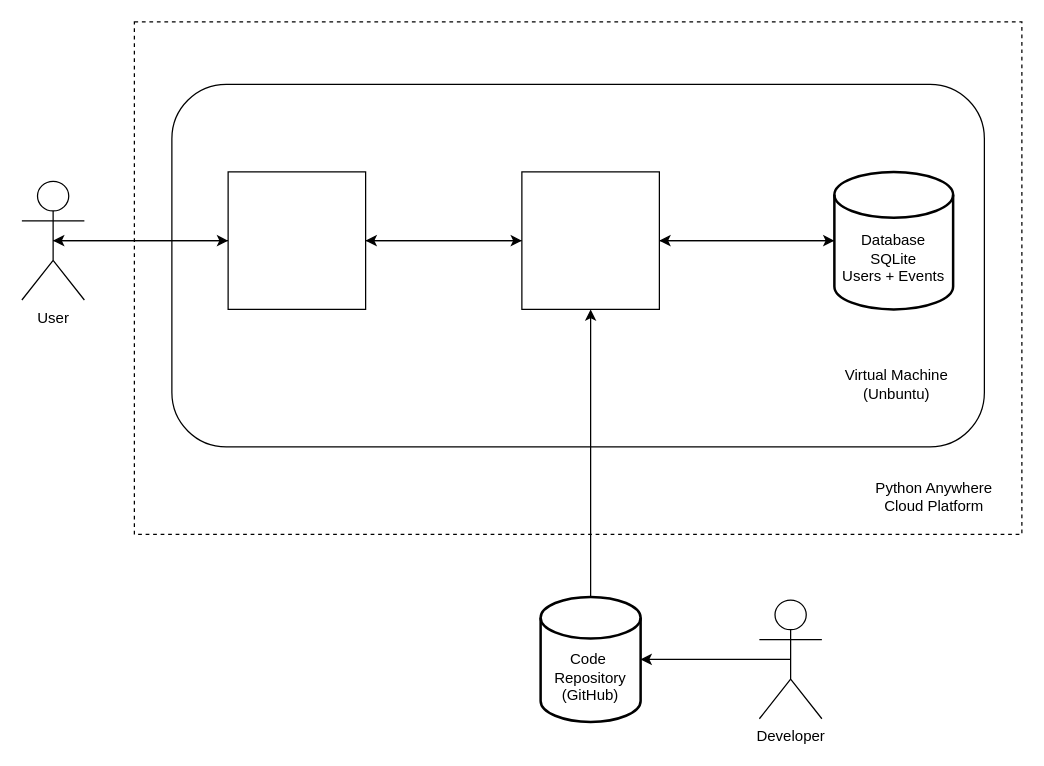
Image size: 1044x766. Some labels were removed from this diagram. The shapes that lost their labels are listed below. From the top down, each one's centre as x and y in pixels, then its label:
the point at 296,240: Web Server Apache
the point at 590,240: Application Server (Flask) Event Scheduler
